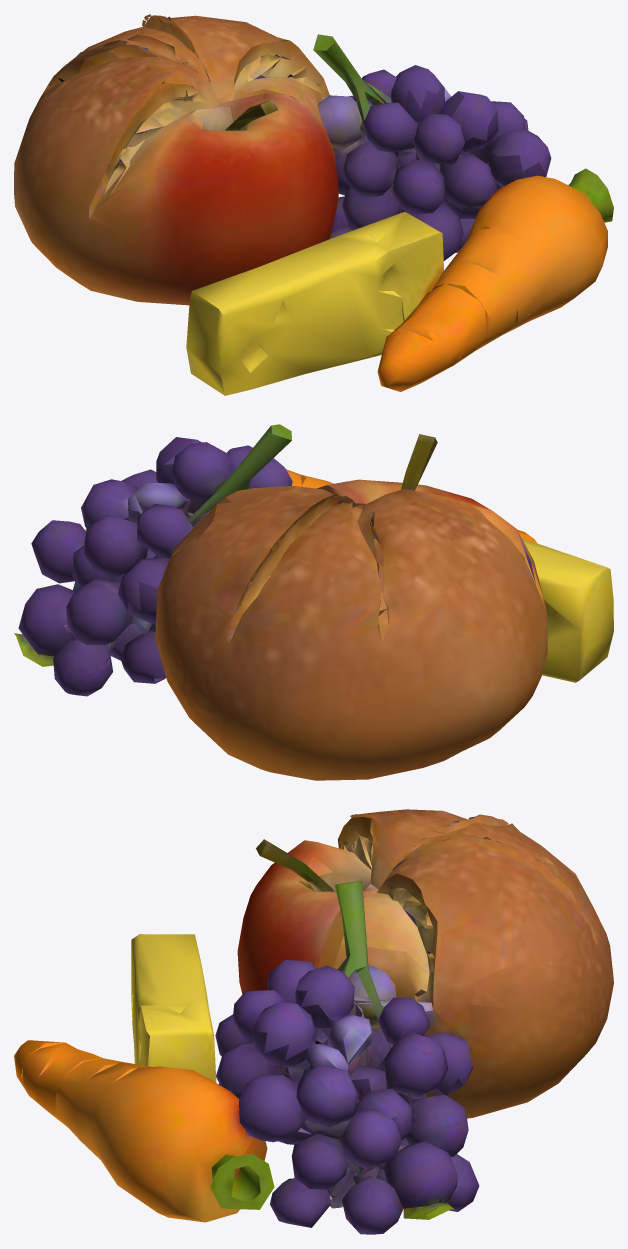
File: festin.glb
3 renders of one model, top to bottom at view 1: azimuth 30°, elevation 25°; view 2: azimuth 150°, elevation 25°; view 3: azimuth 270°, elevation 25°, orthographic. The views are drawn at different scales.
Parts seen in each view (by area): view 1: objeto; view 2: objeto; view 3: objeto.
Boxes of the visible parts, <box> form: objeto: <box>14,14,613,395</box>; objeto: <box>14,424,613,780</box>; objeto: <box>14,809,613,1234</box>.
Size of the model in its own units: 1.45 by 0.6935 by 1.45.
1 material, 1 textured.
